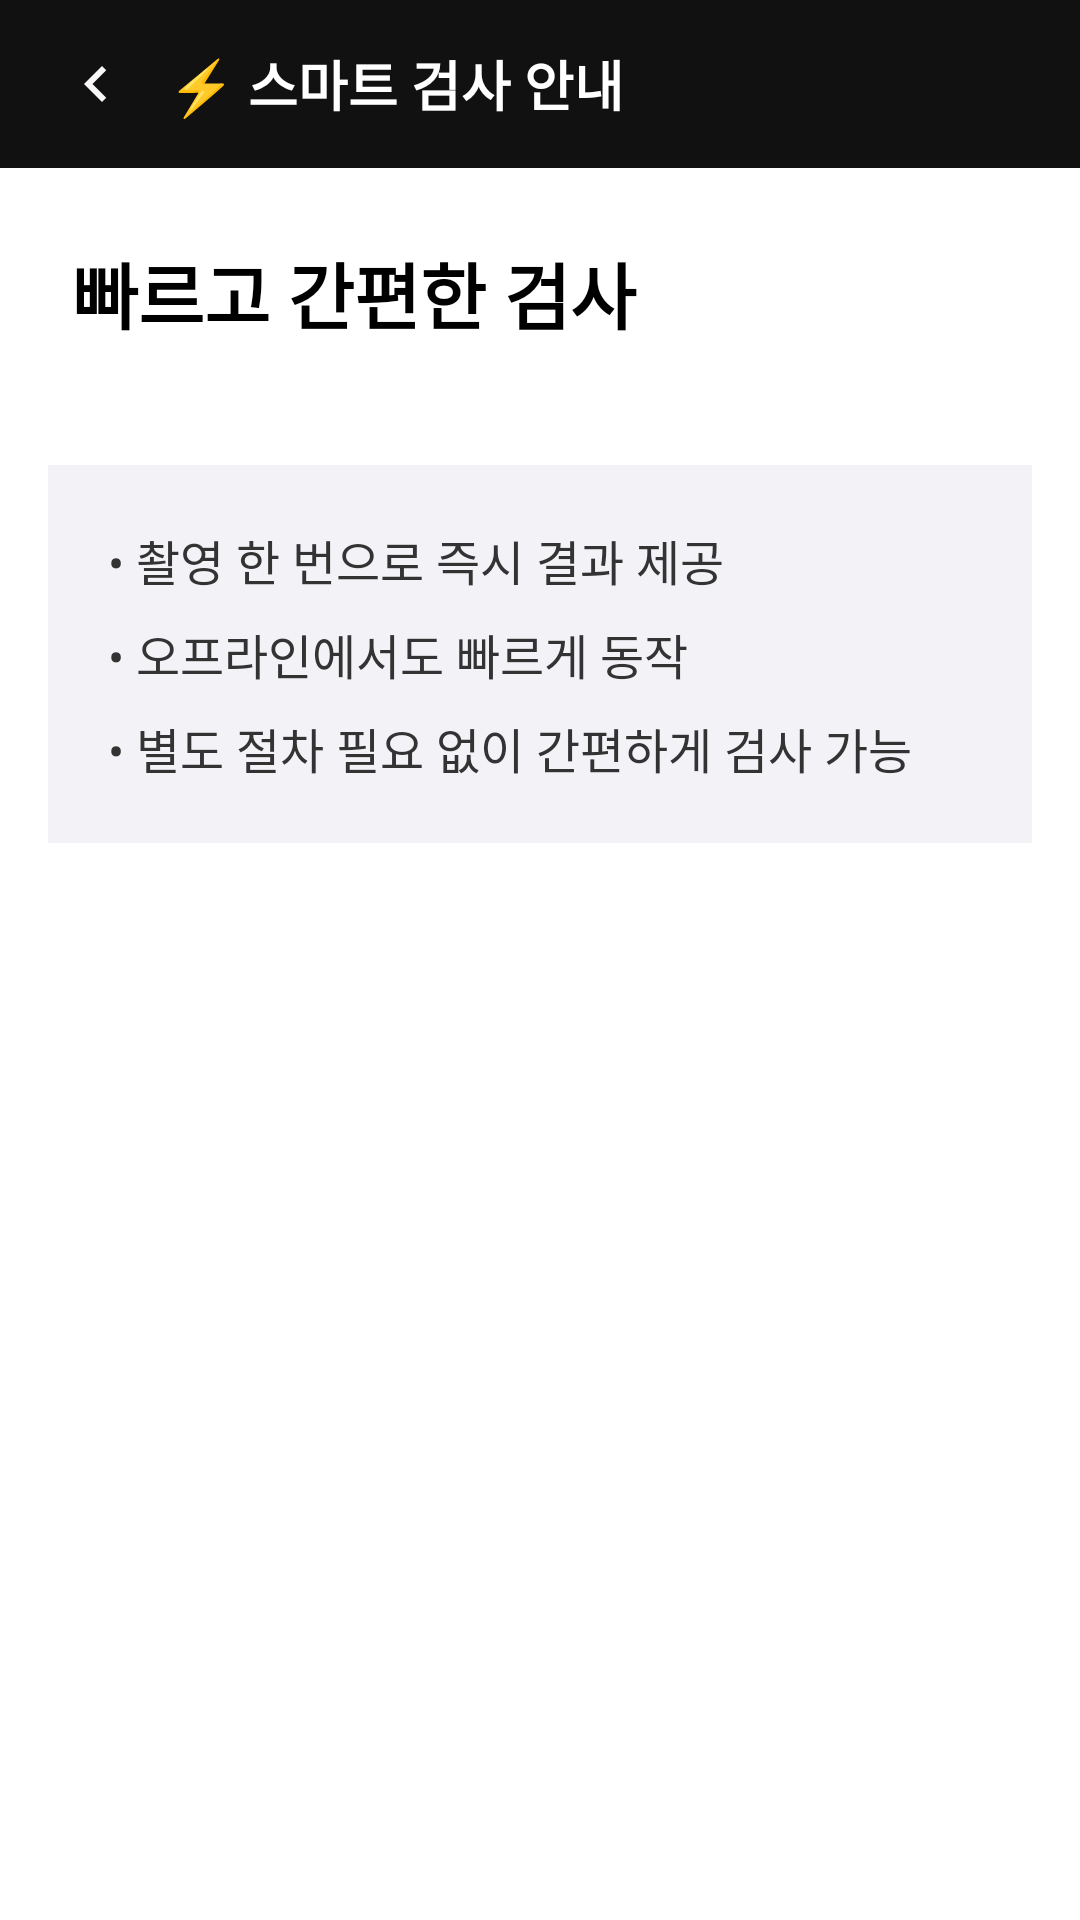

Named icons in this screenshot (1080 × 1920) and their bounding boxes, (left=x1, top=y1, right=x2, bottom=y2):
back: (left=84, top=66, right=106, bottom=102)
